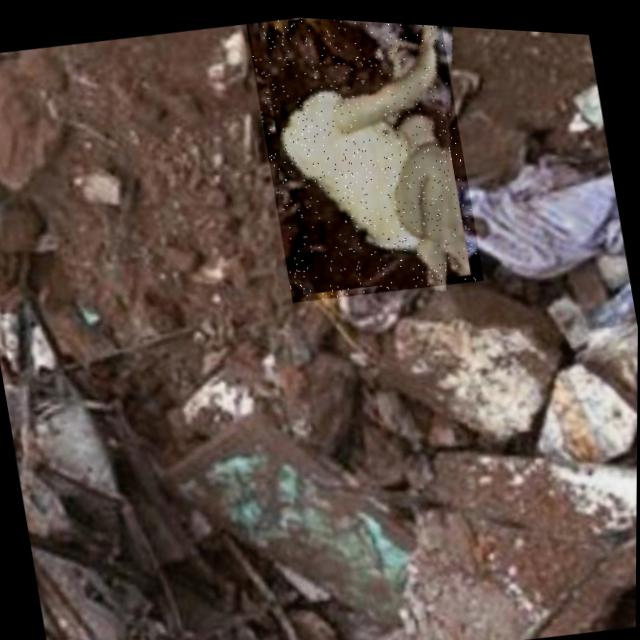Person in Rubble: (243, 11, 485, 306)
